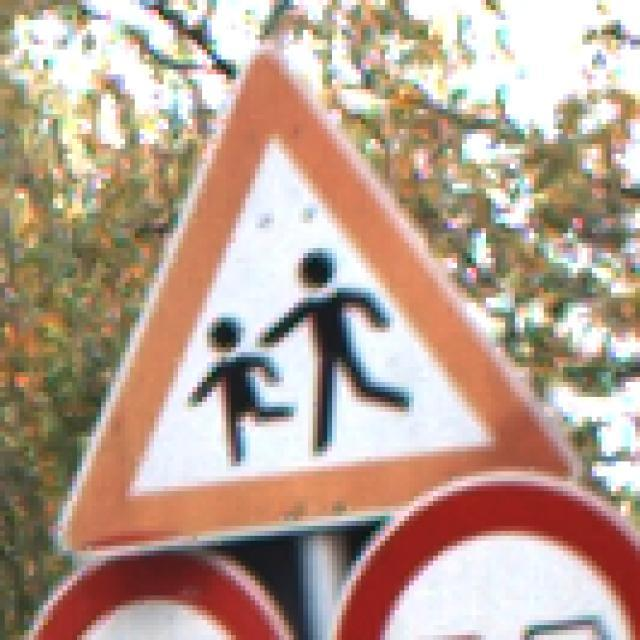school ahead: (65, 46, 569, 554)
